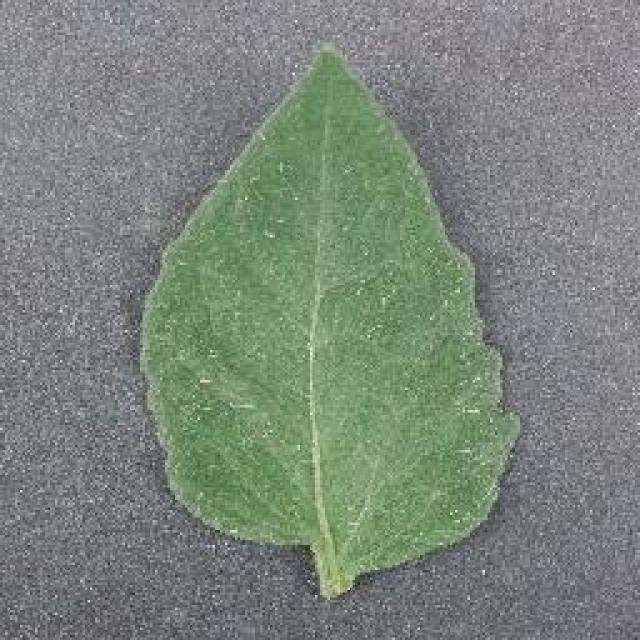Tomato_Healthy: (104, 29, 524, 576)
